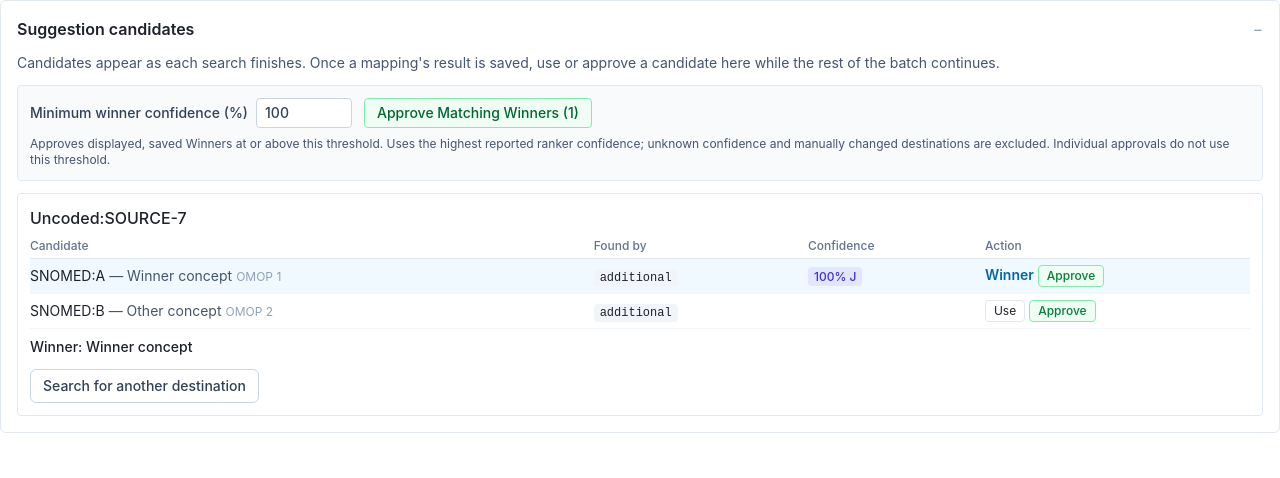
explicit matching Winner approval › allows Use then Approve mid-stream and excludes that manual choice from bulk approval
Click the button with aria-label "Use Other concept for SOURCE-7" at (1005, 311), box left=985, top=300, right=1025, bottom=322
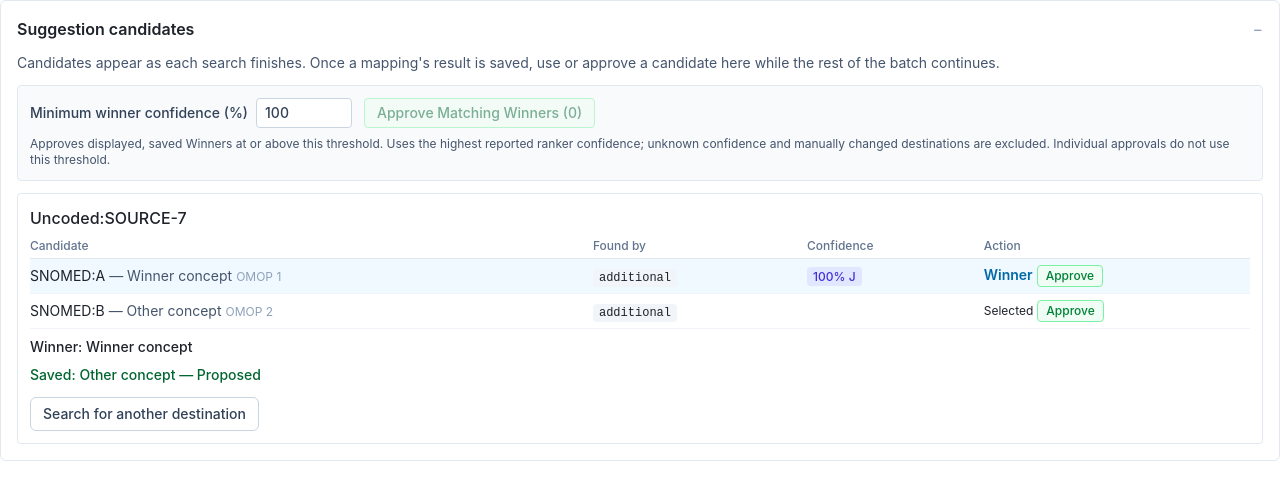
Now the text "Saved: Other concept — Proposed" is shown, box left=30, top=365, right=261, bottom=385
Now the button "Approve Matching Winners (0)" is shown, box left=364, top=98, right=595, bottom=128
Click the button with aria-label "Approve Other concept for SOURCE-7" at (1071, 311), box left=1037, top=300, right=1104, bottom=322
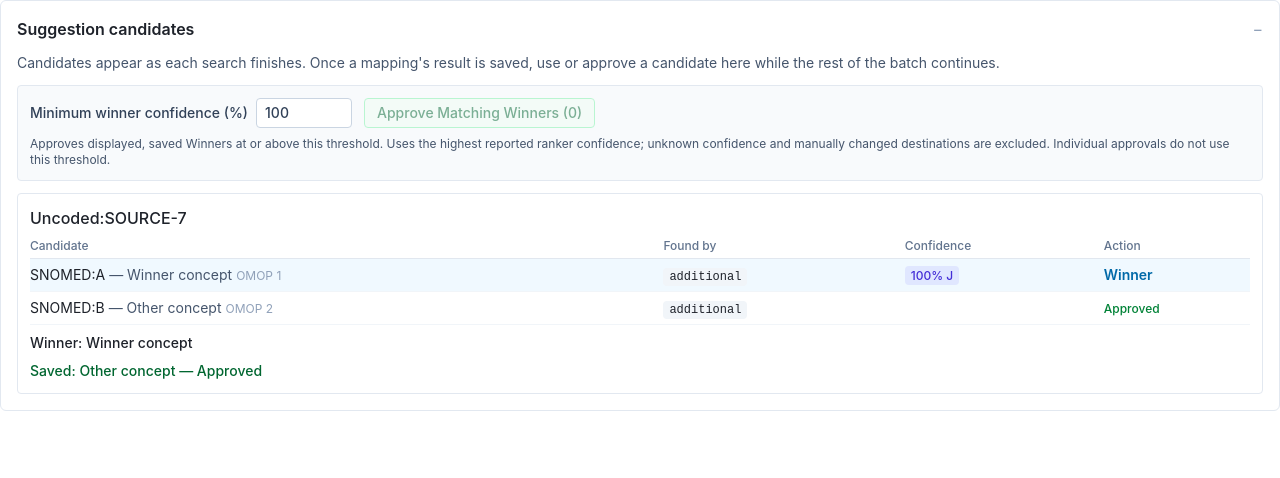
Now the text "Saved: Other concept — Approved" is shown, box left=30, top=361, right=262, bottom=381
